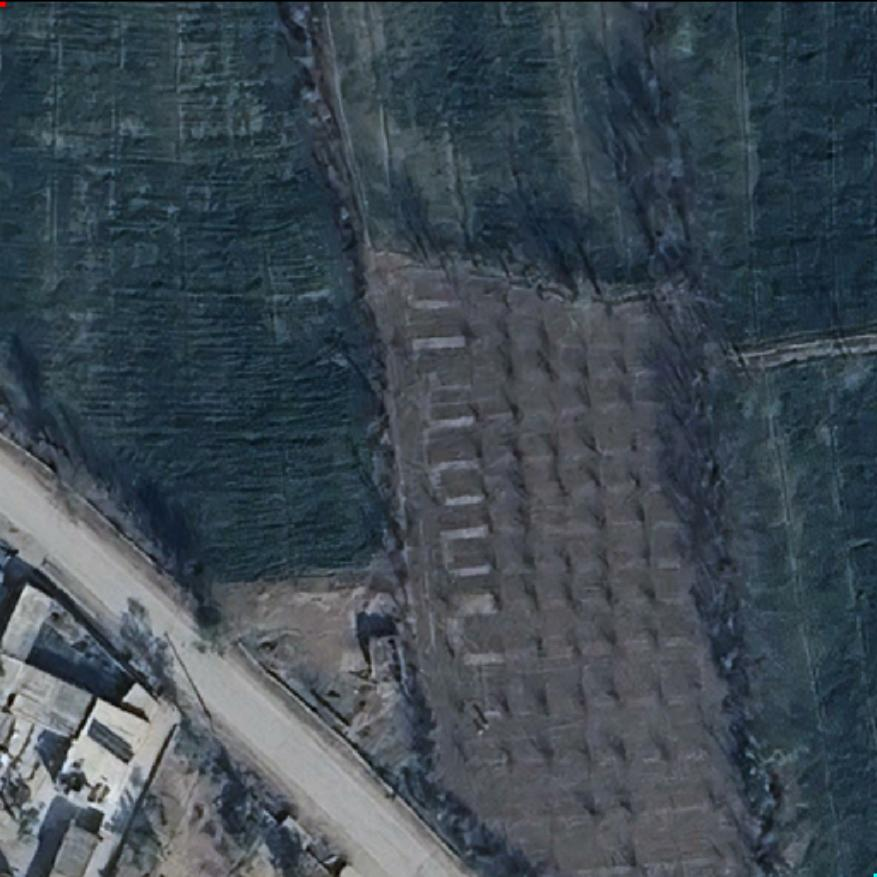Solarpanel: (82, 713, 135, 770)
